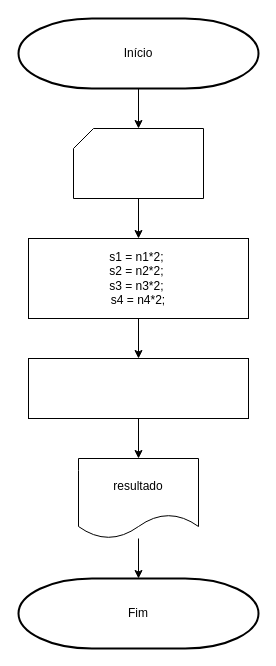
Some shapes in this 276 by 666 pixel diagram are drawn without their labels. Here are the shapes that lost their labels. From the top down, the centre of each, then its label:
At (x=138, y=163): "Ler n1, n2, n3, n4".
At (x=138, y=388): "resultado = s1 + s2 + s3 + s4".
